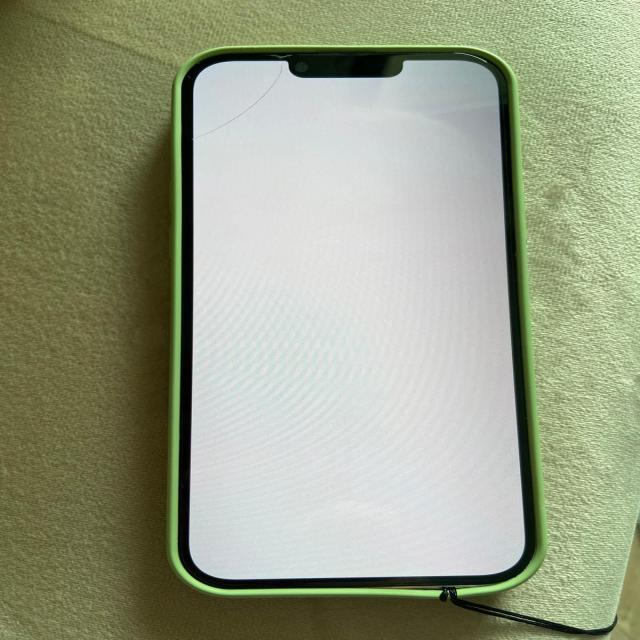Crack: (168, 61, 299, 151)
